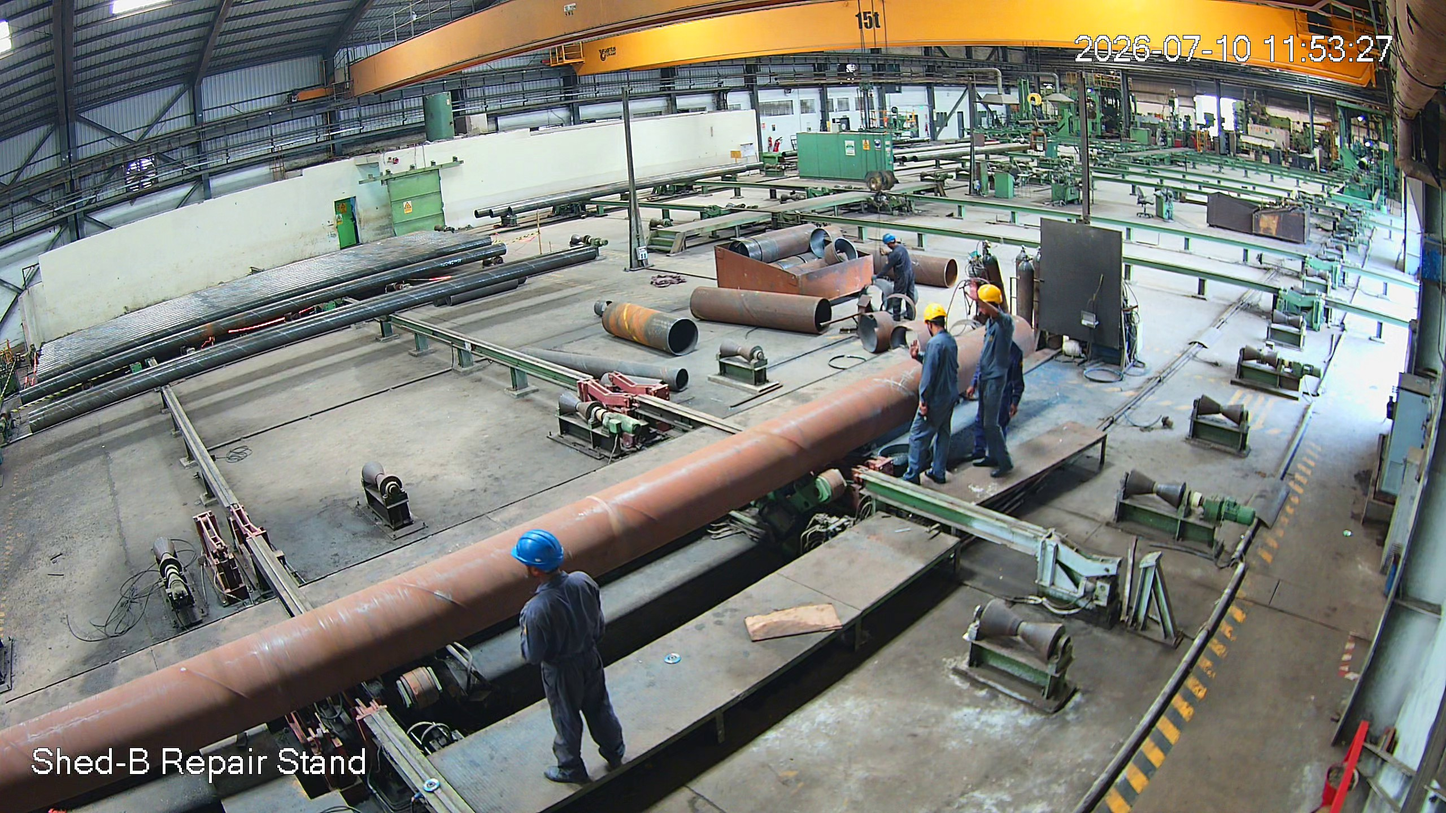Helmet: (504, 525, 578, 595), (910, 293, 951, 351), (965, 271, 1007, 325), (875, 225, 901, 263)
Person: (489, 537, 641, 788), (962, 277, 1030, 482), (904, 301, 960, 503), (871, 233, 915, 329)
